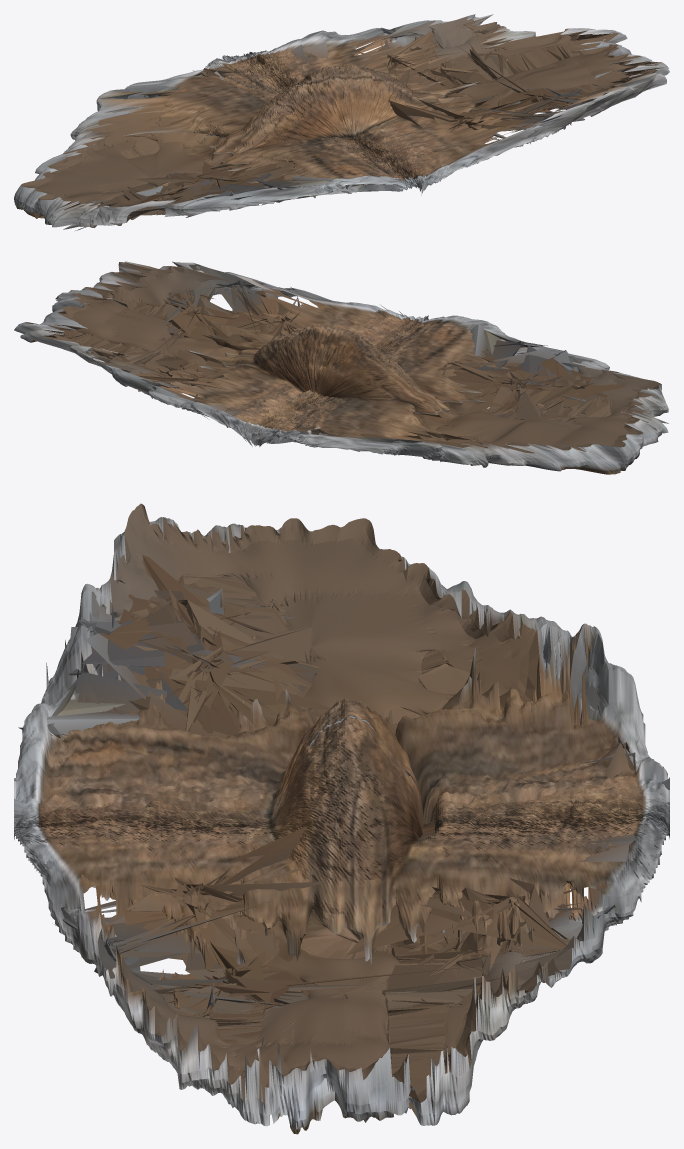
File: membrane3_mesh.glb
3 renders of one model, top to bottom at view 1: azimuth 30°, elevation 25°; view 2: azimuth 150°, elevation 25°; view 3: azimuth 270°, elevation 25°, orthographic. The views are drawn at different scales.
Visible parts, largest first — view 1: ipn, fill; view 2: ipn, fill; view 3: ipn, fill.
Part boxes in pixels (x1,y1,x2,y2): ipn: (14,14,669,230); fill: (21,16,663,227); ipn: (14,261,668,474); fill: (26,262,661,469); ipn: (14,510,669,1134); fill: (14,503,669,1124).
Size of the model in its own units: 1.99 by 0.3497 by 0.9423.
Materials: 2 (1 with a texture image).
